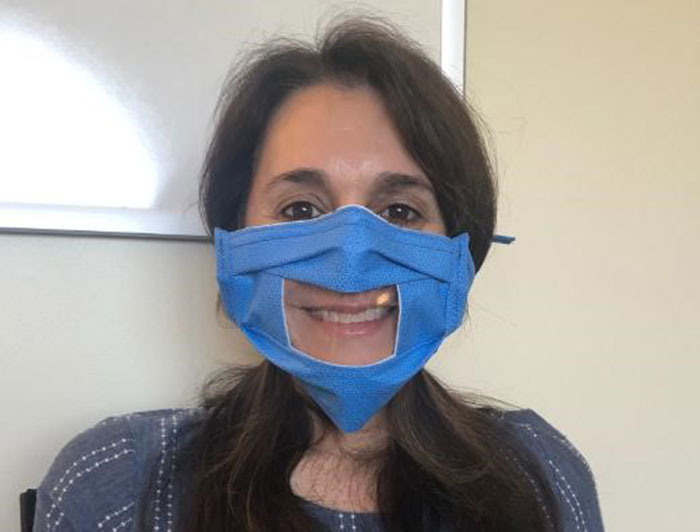Mask: (204, 219, 484, 431)
